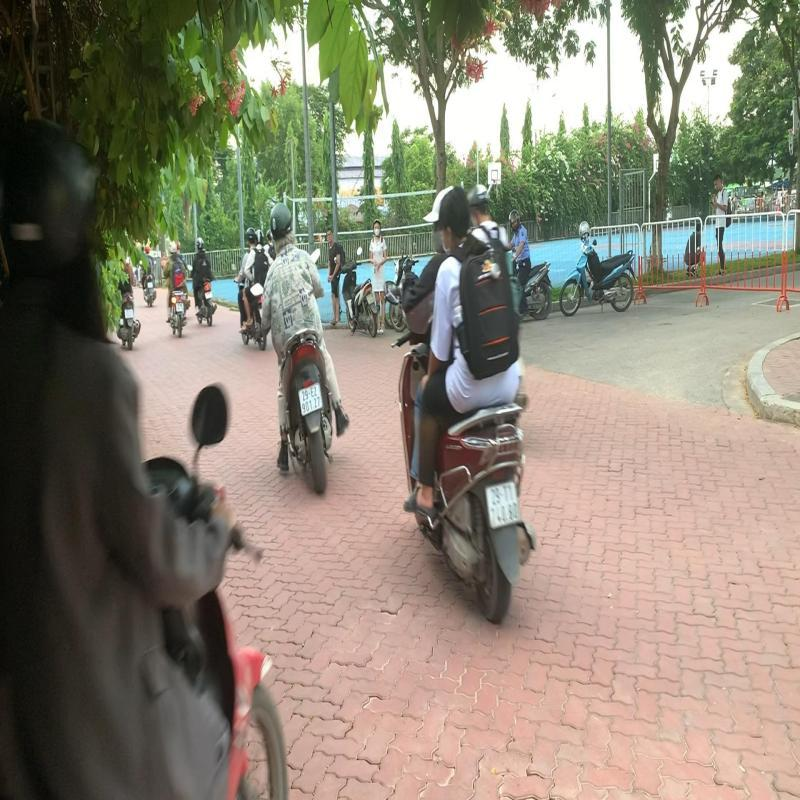nohelmet: (436, 184, 474, 246)
